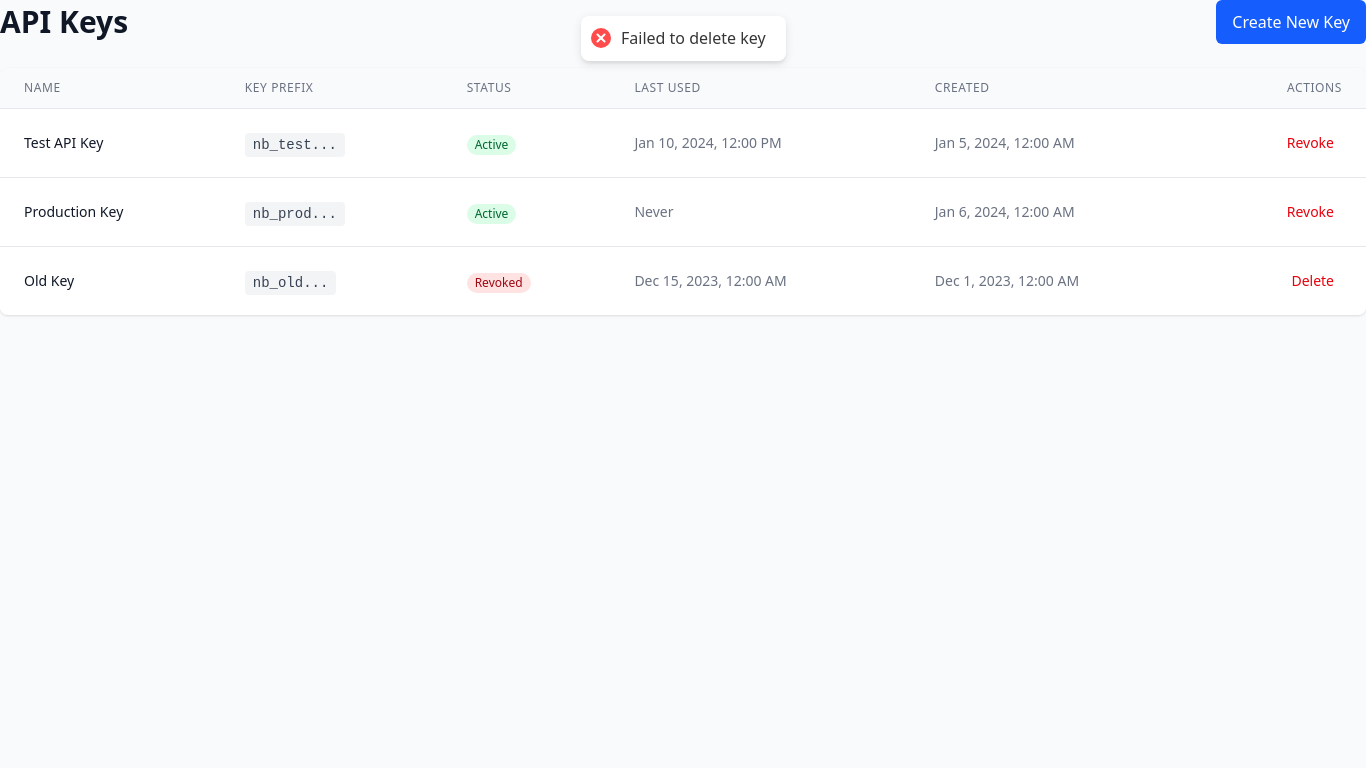
ApiKeys Page › Delete API Key › should cancel delete operation
Click revoke button
Click the button "Revoke" in the row of "Test API Key": x=1310, y=143 [1279, 125, 1342, 161]
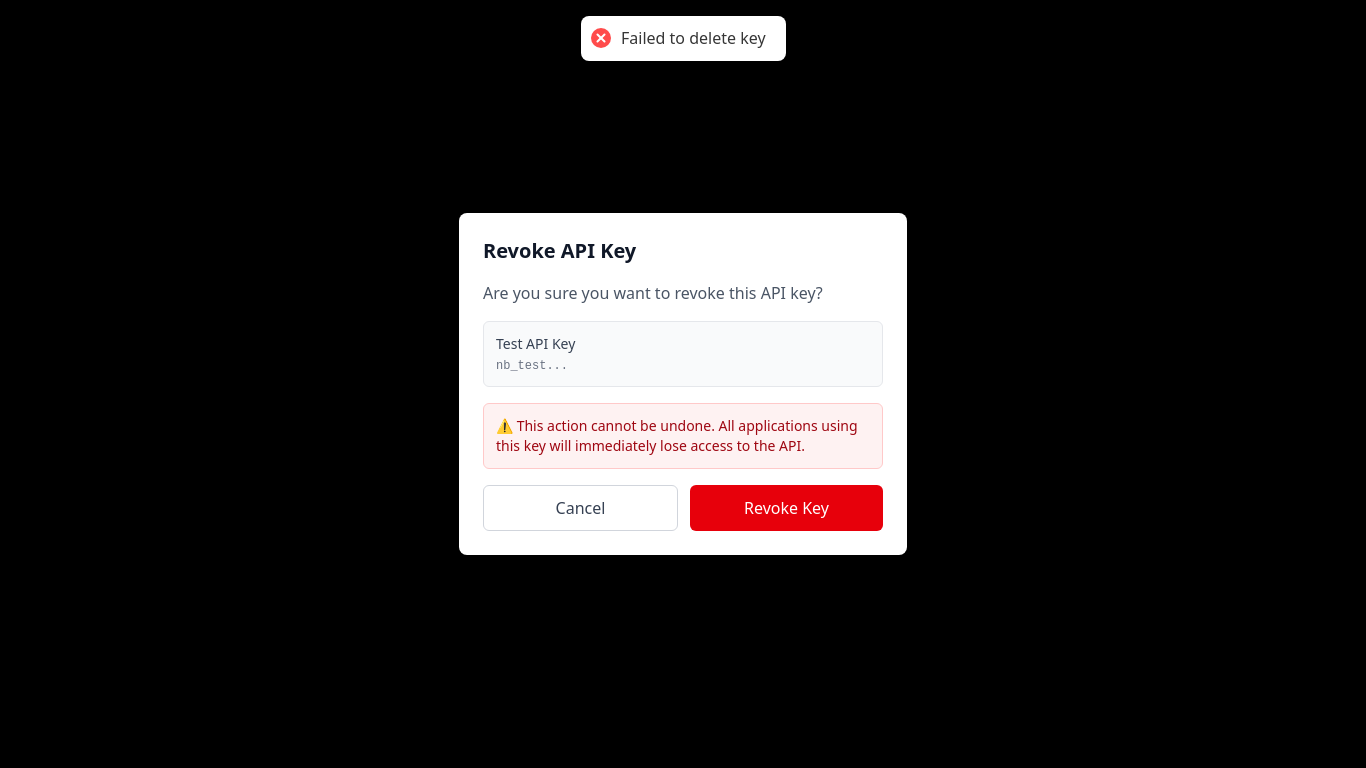
Click cancel button
Click the button "Cancel": x=580, y=508 [483, 485, 678, 531]
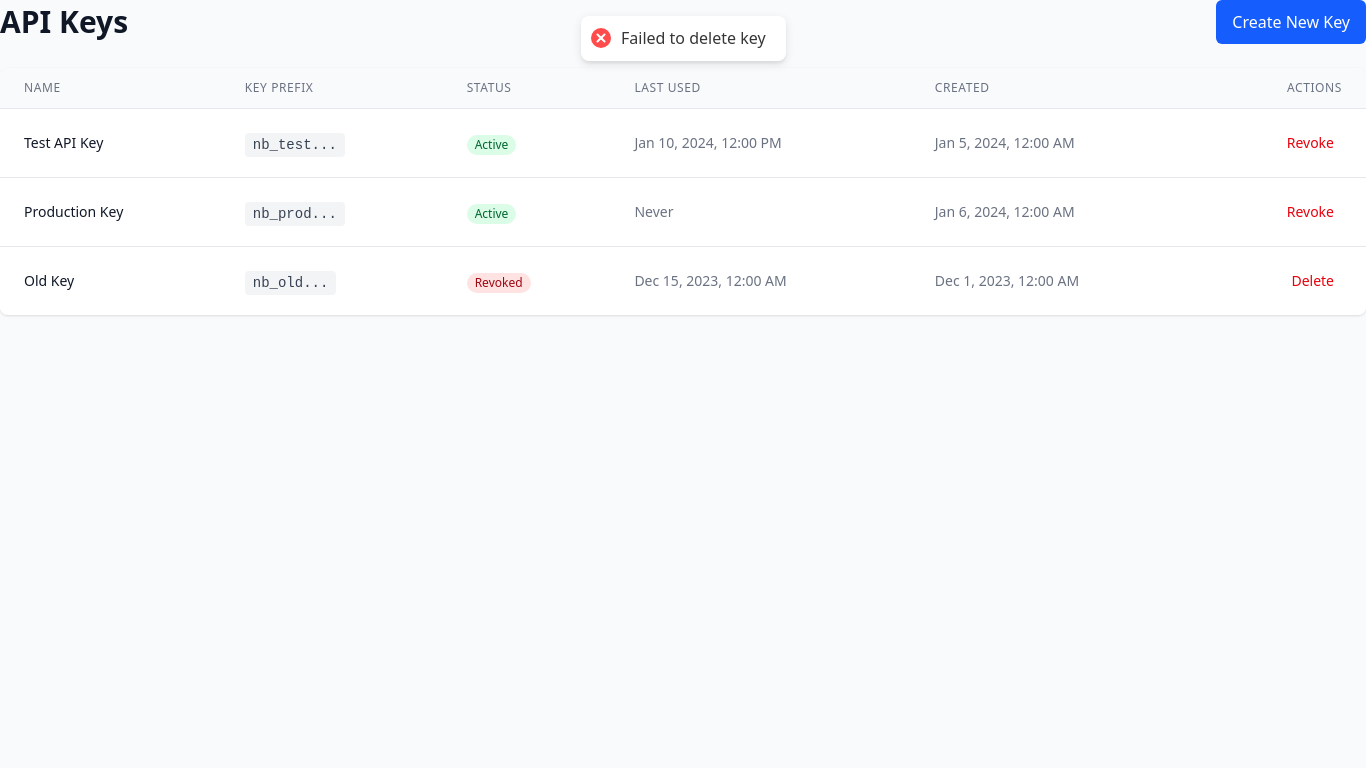
Check: the heading "Revoke API Key" is gone
